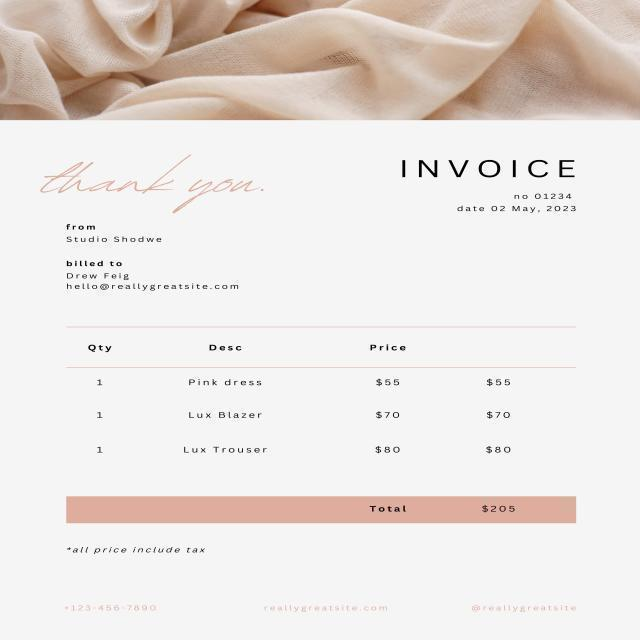paragraph: (35, 150, 268, 218), (394, 151, 584, 215), (57, 597, 586, 618), (63, 257, 241, 293), (363, 497, 525, 522), (62, 220, 166, 247), (60, 540, 214, 558)
table: (69, 328, 539, 474)
